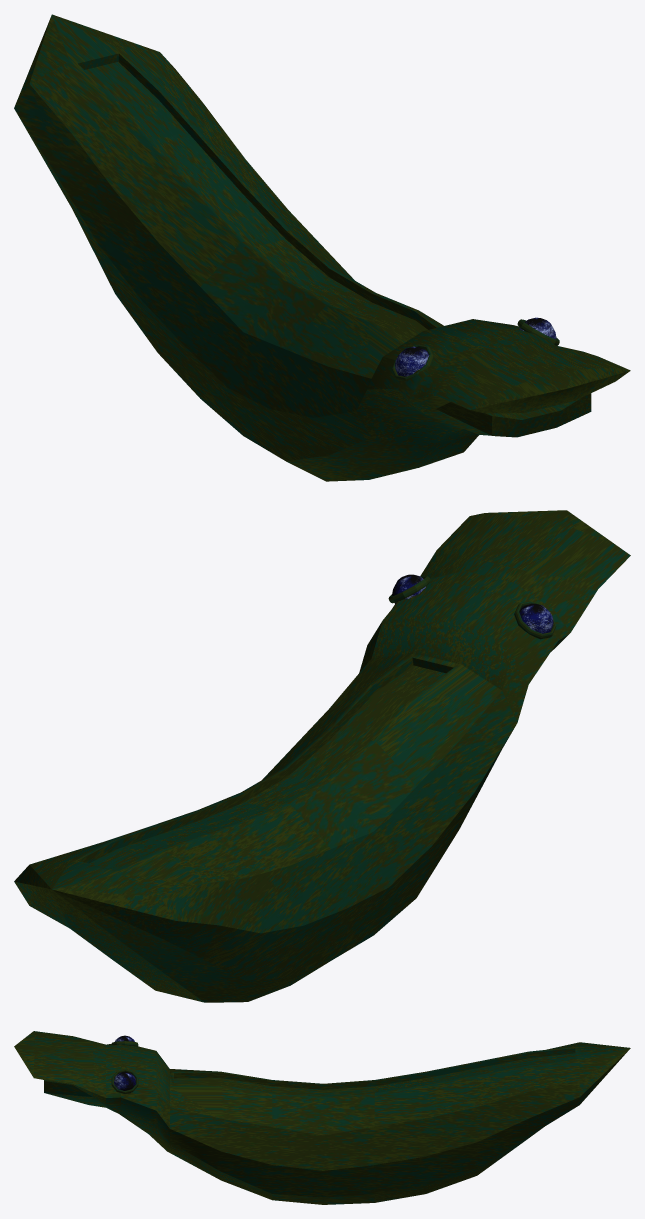
File: Barco.obj
The picture shows the model from 3 angles, top to bottom: view 1: azimuth 30°, elevation 25°; view 2: azimuth 150°, elevation 25°; view 3: azimuth 270°, elevation 25°; orthographic projection. The views are drawn at different scales.
Visible parts, largest first — view 1: polySurface56; view 2: polySurface56; view 3: polySurface56.
Part boxes in pixels (x1,y1,x2,y2): polySurface56: (14, 14, 630, 481); polySurface56: (14, 510, 630, 1002); polySurface56: (14, 1031, 630, 1204).
Bounding box in the file's own units: 5.64 × 8.36 × 30.89.
Materials: 2 (2 with a texture image).
